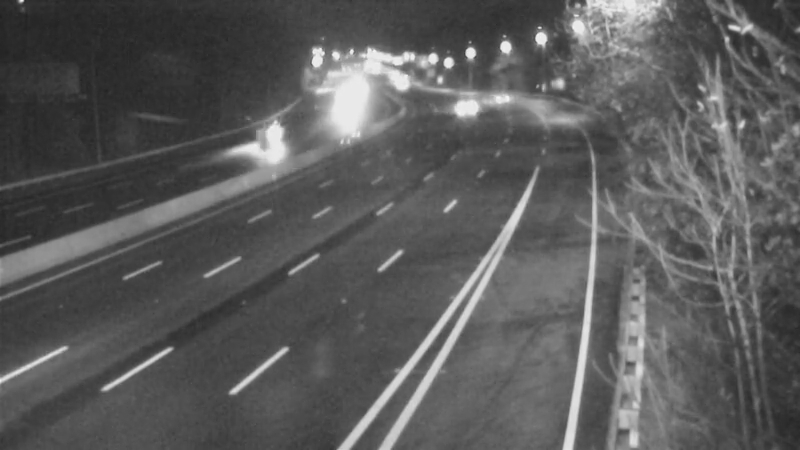vehicle: (474, 73, 524, 123), (439, 79, 489, 129), (246, 116, 296, 166)
